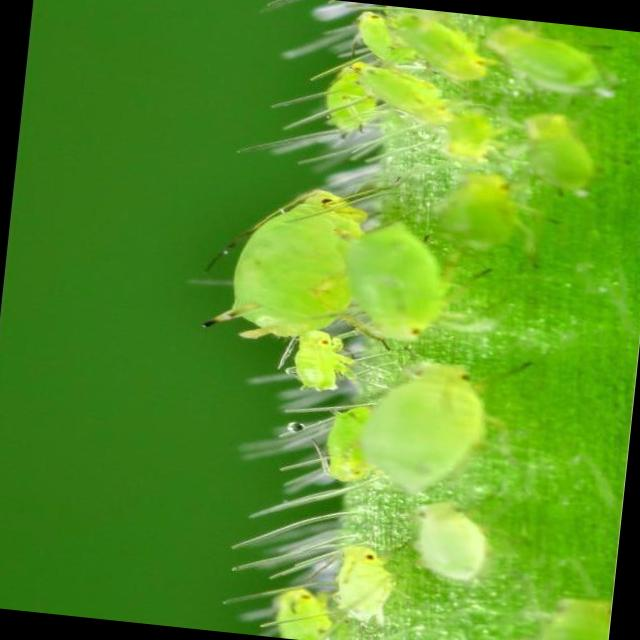aphid: (172, 160, 374, 358), (366, 352, 496, 502), (334, 218, 458, 346), (424, 169, 548, 270), (474, 24, 622, 100), (302, 390, 402, 500), (266, 314, 364, 406), (514, 109, 607, 198), (394, 10, 492, 86), (356, 59, 460, 129), (405, 503, 487, 582), (328, 544, 400, 624), (314, 59, 384, 134), (428, 105, 502, 167), (348, 8, 414, 65), (268, 583, 333, 640)
